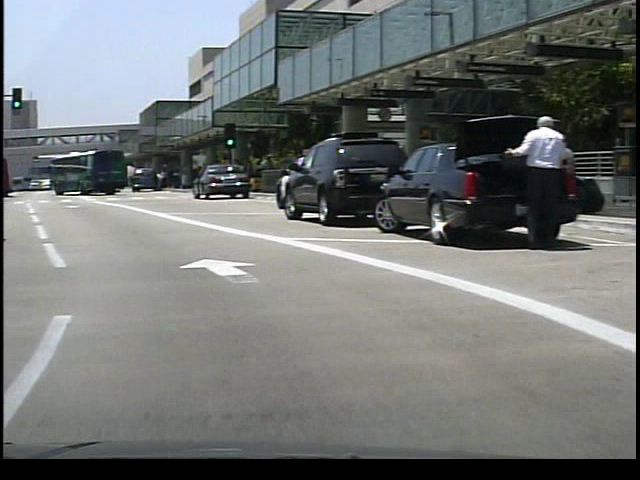person: (498, 99, 570, 257), (562, 133, 564, 217)
